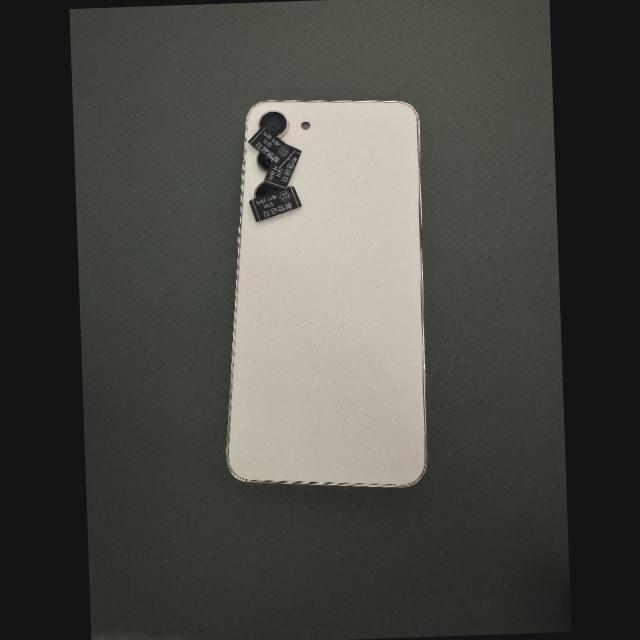lens: (259, 111, 287, 135), (254, 183, 278, 199), (257, 153, 270, 172)
phone: (226, 100, 426, 487)
sticker: (247, 126, 297, 169), (248, 186, 302, 222), (263, 144, 301, 191)
